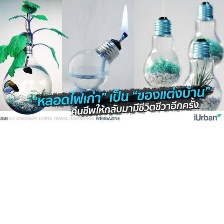light_bulb: (0, 43, 55, 119), (177, 34, 224, 115), (140, 15, 186, 93), (65, 38, 124, 93), (184, 4, 224, 72)
